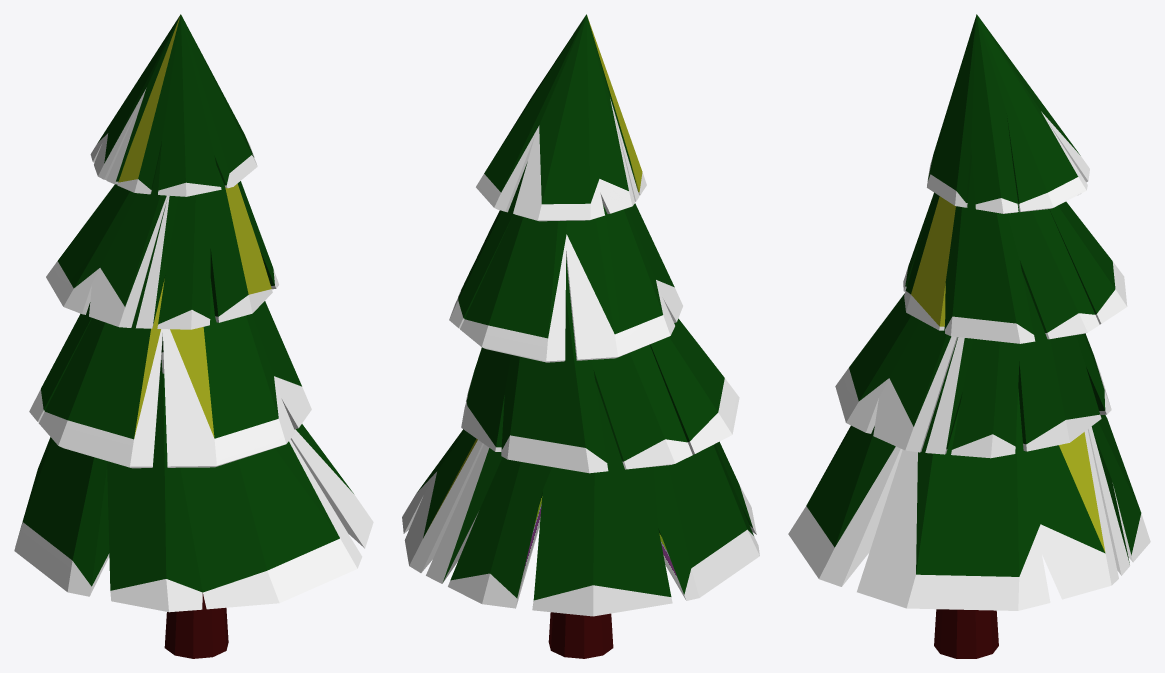
Rendered from SM_Pine_02.fbx.
3 renders of one model, left to right at view 1: azimuth 30°, elevation 25°; view 2: azimuth 150°, elevation 25°; view 3: azimuth 270°, elevation 25°, orthographic.
Parts seen in each view (by area): view 1: SM_Pine_02_LOD0; view 2: SM_Pine_02_LOD0; view 3: SM_Pine_02_LOD0.
Boxes of the visible parts, x1,y1,x2,y2 form: SM_Pine_02_LOD0: [14, 14, 373, 658]; SM_Pine_02_LOD0: [402, 14, 759, 658]; SM_Pine_02_LOD0: [788, 14, 1150, 658].
Size of what is drawn, in the model's own units: 198 by 393 by 206.
